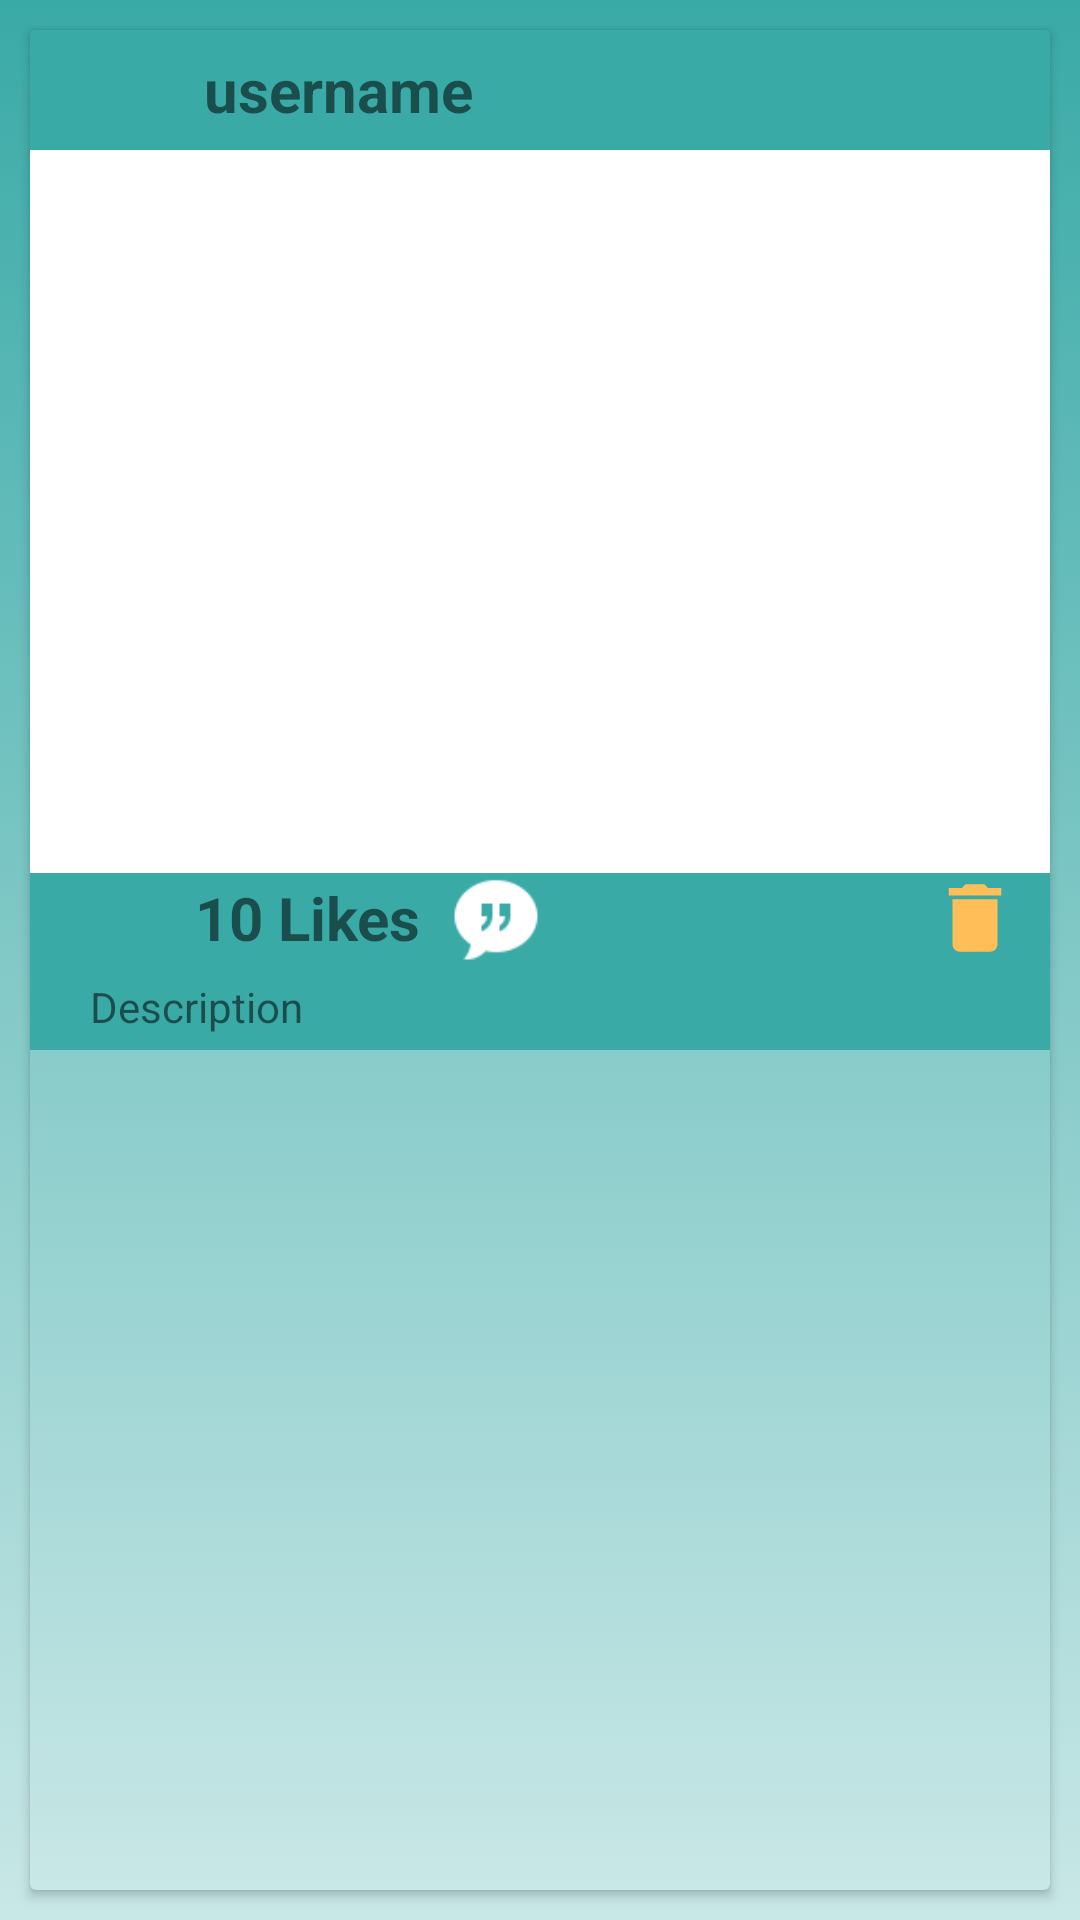

Locate icon controls on the screen. Image size 1080x1920, boxes as (x1, y1, x2, y2).
comment: (454, 880, 538, 960)
delete: (948, 884, 1002, 952)
